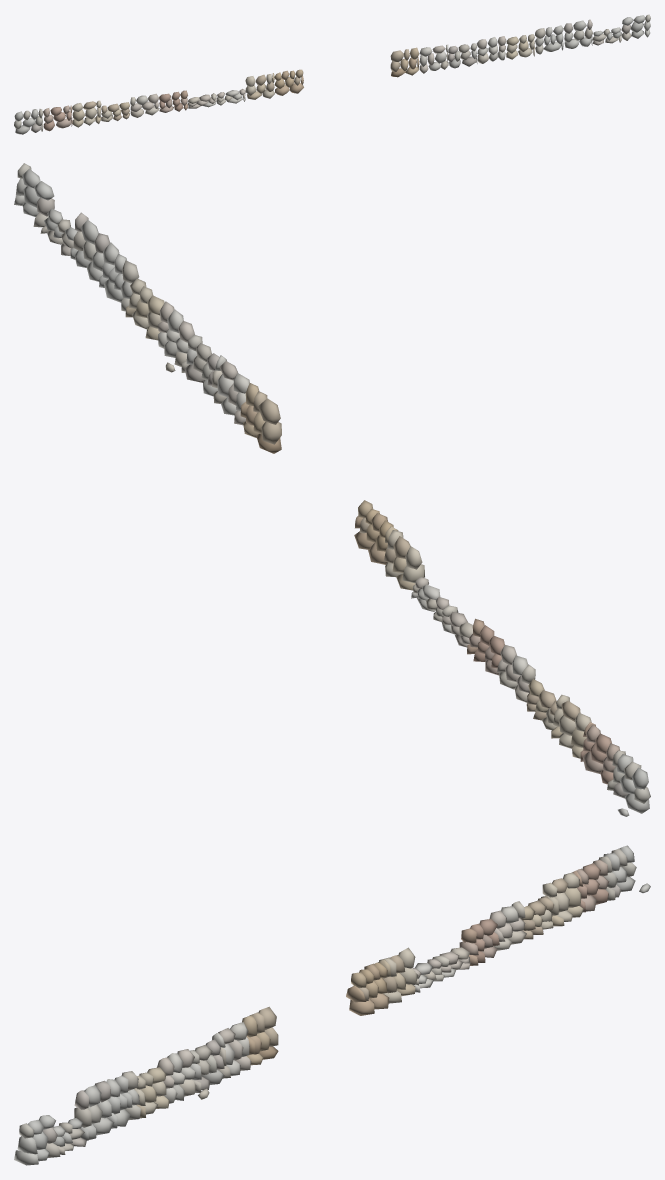
File: farm_0_-2_near.glb
The picture shows the model from 3 angles, top to bottom: view 1: azimuth 30°, elevation 25°; view 2: azimuth 150°, elevation 25°; view 3: azimuth 270°, elevation 25°; orthographic projection. The views are drawn at different scales.
Parts seen in each view (by area): view 1: geometry_0; view 2: geometry_0; view 3: geometry_0.
Part boxes in pixels (box(x1,y1,x2,y2)): geometry_0: box(14, 14, 650, 134); geometry_0: box(14, 163, 650, 816); geometry_0: box(14, 845, 650, 1165).
Size of the model in its own units: 29.61 by 6.69 by 17.05.
